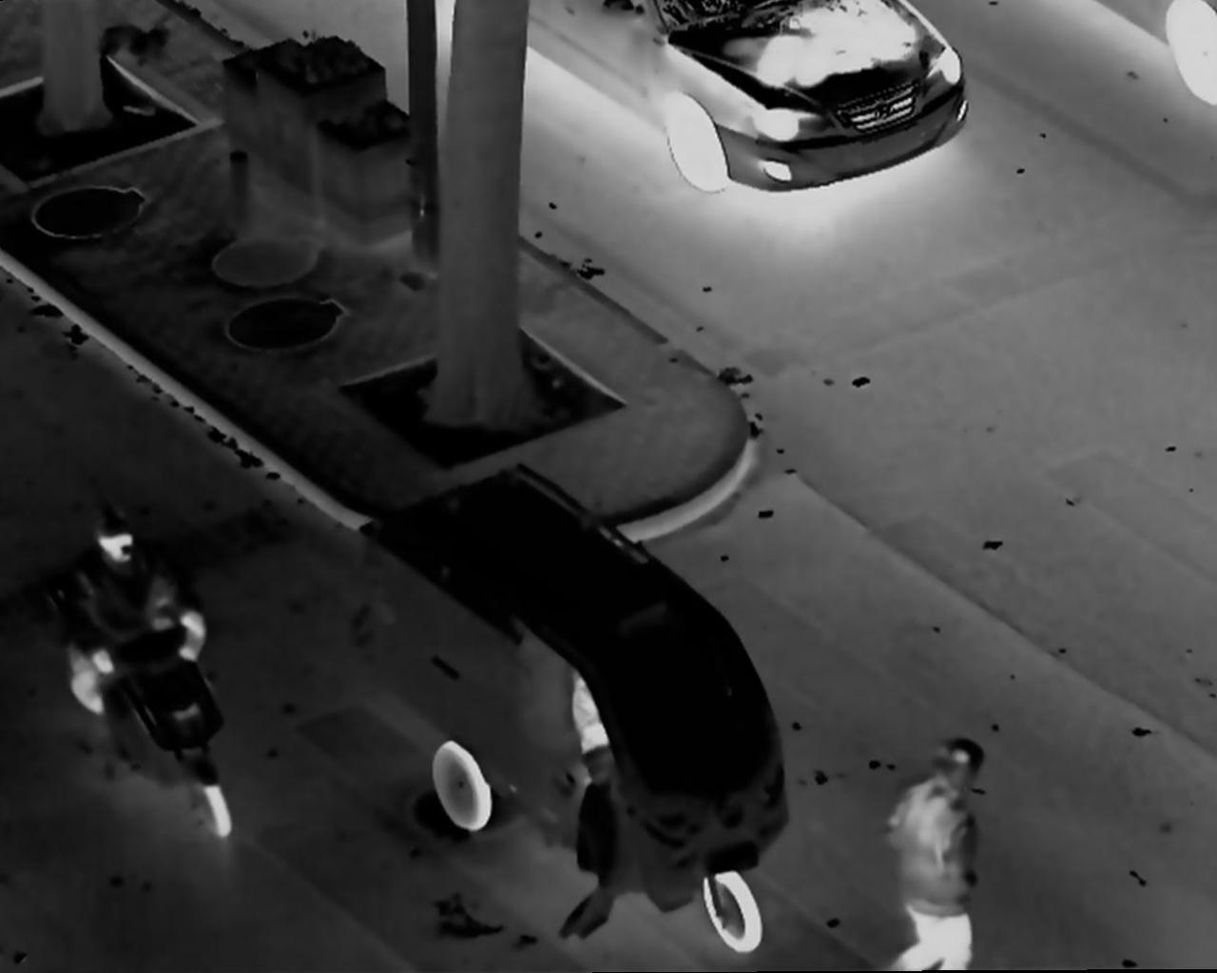person: (889, 735, 1000, 973), (73, 507, 156, 742)
